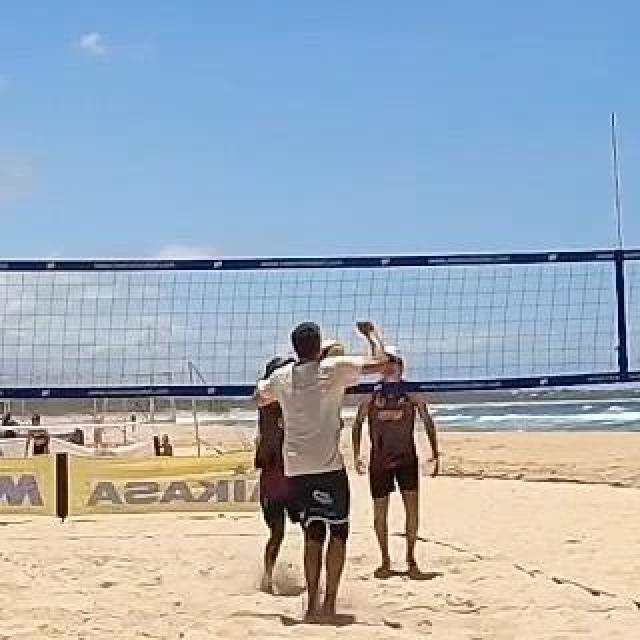volleyball: (312, 338, 344, 370)
